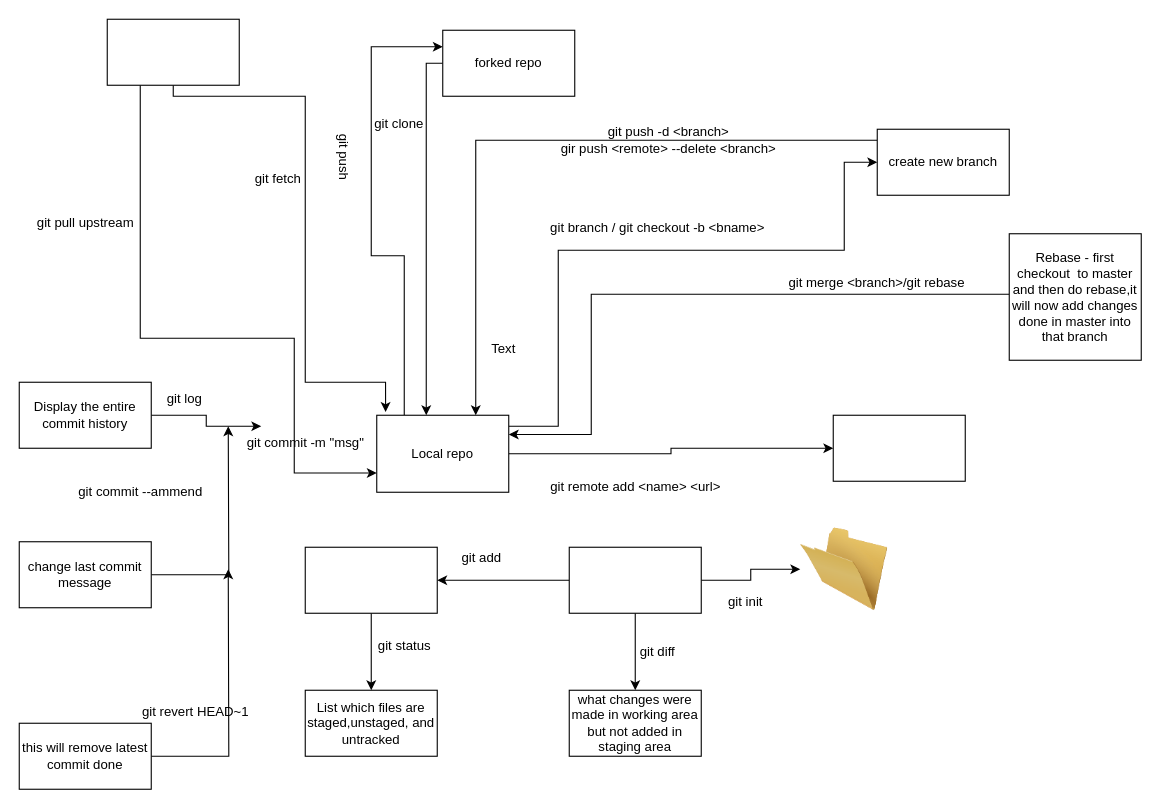
This 1161x809 diagram has some shape labels left out. The centre of each missing label's shape, as x and y in pixels:
"add remote branches" goes at [898,447].
"org level repo" goes at [172,51].
"Staging area" goes at [370,579].
"Working area" goes at [634,579].
